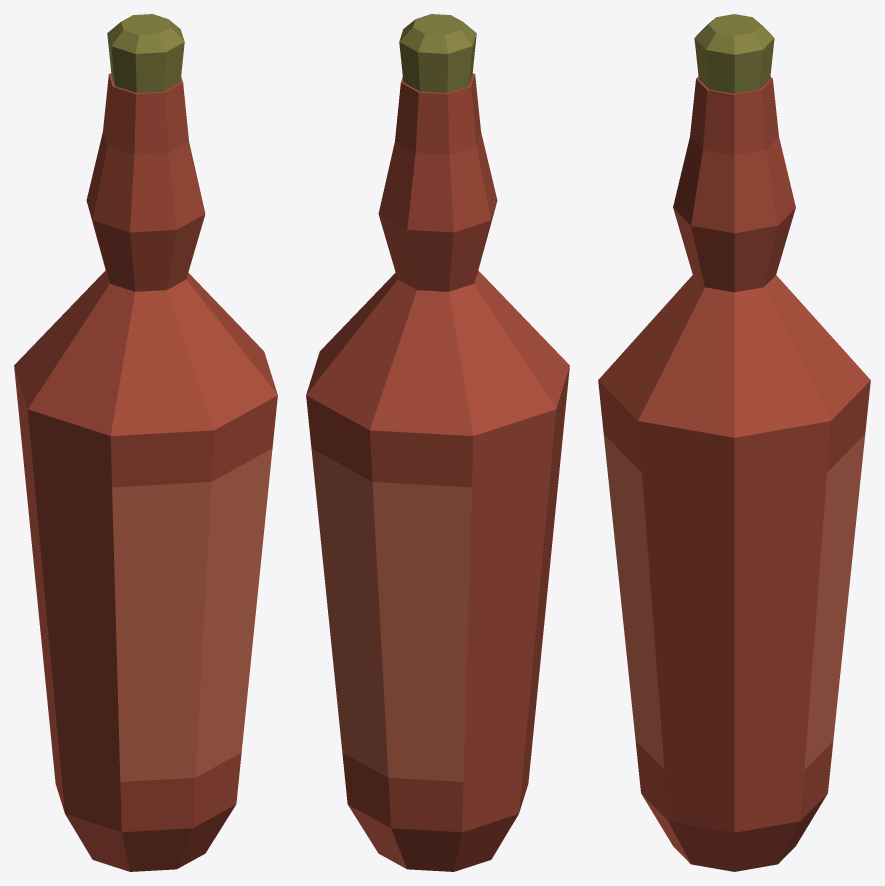
The model's file is Bottle_2_Red.fbx.
3 renders of one model, left to right at view 1: azimuth 30°, elevation 25°; view 2: azimuth 150°, elevation 25°; view 3: azimuth 270°, elevation 25°, orthographic.
Parts seen in each view (by area): view 1: Bottle_2_Red_Part_1, Bottle_2_Red_Part_2, Bottle_2_Red_Part_3; view 2: Bottle_2_Red_Part_1, Bottle_2_Red_Part_2, Bottle_2_Red_Part_3; view 3: Bottle_2_Red_Part_1, Bottle_2_Red_Part_2, Bottle_2_Red_Part_3.
Part boxes in pixels (x1=…): Bottle_2_Red_Part_1: x1=14, y1=73, x2=277, y2=871; Bottle_2_Red_Part_2: x1=112, y1=448, x2=272, y2=781; Bottle_2_Red_Part_3: x1=107, y1=14, x2=184, y2=92; Bottle_2_Red_Part_1: x1=306, y1=73, x2=569, y2=871; Bottle_2_Red_Part_2: x1=311, y1=448, x2=471, y2=781; Bottle_2_Red_Part_3: x1=399, y1=14, x2=476, y2=92; Bottle_2_Red_Part_1: x1=598, y1=76, x2=870, y2=871; Bottle_2_Red_Part_2: x1=603, y1=434, x2=865, y2=769; Bottle_2_Red_Part_3: x1=694, y1=14, x2=774, y2=93.
Size of the model in its own units: 12 by 39.85 by 12.
